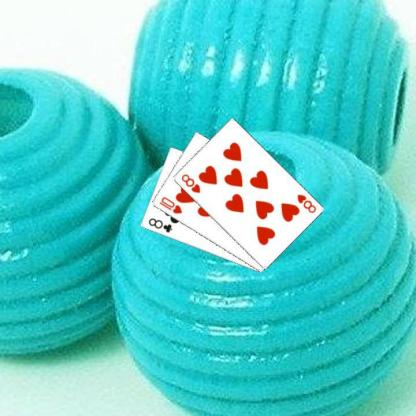10H: (157, 194, 183, 215)
8C: (146, 216, 173, 234)
8H: (179, 172, 201, 194), (295, 192, 317, 214)
